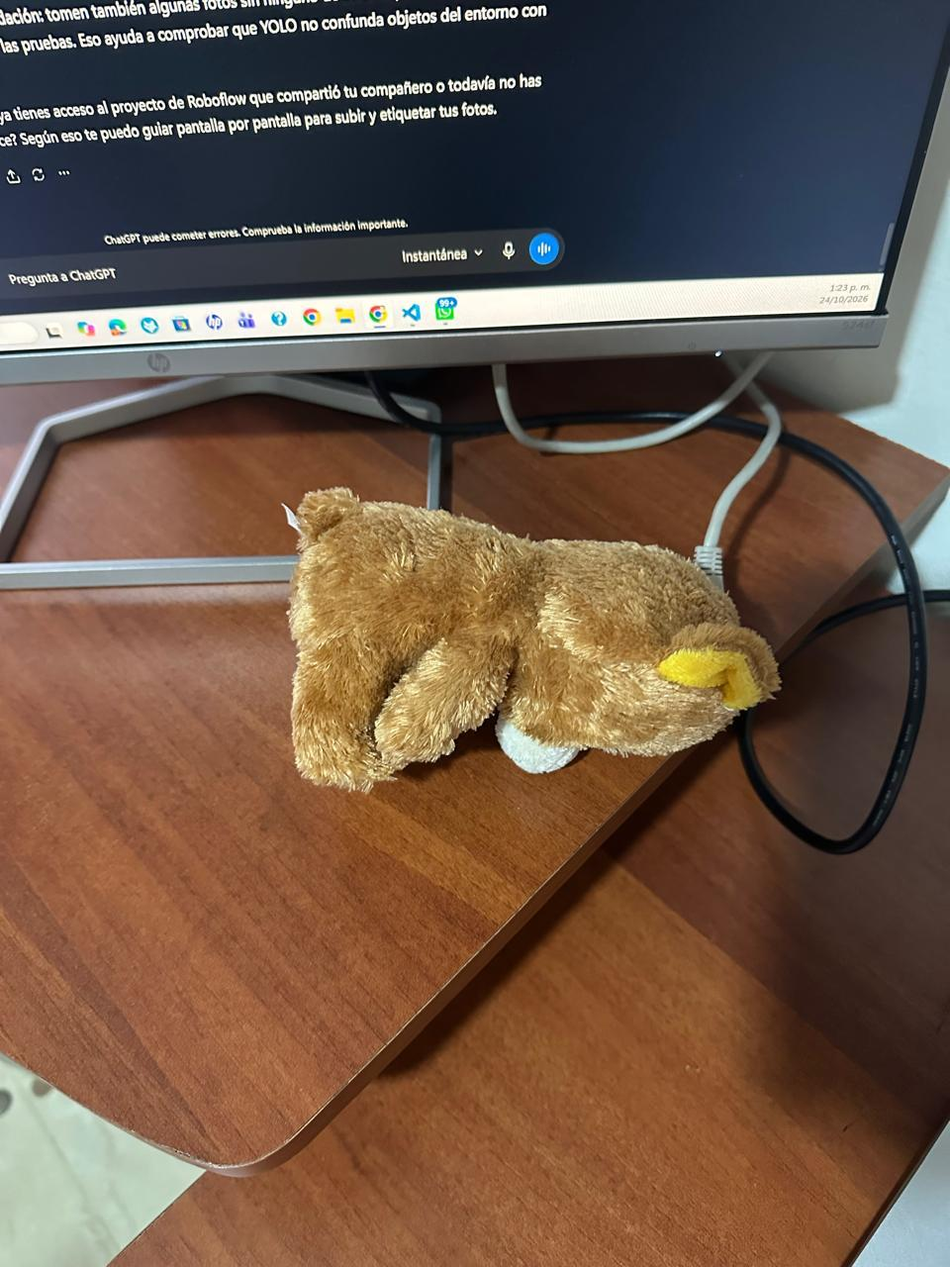peluche_sebastian: (285, 483, 784, 799)
